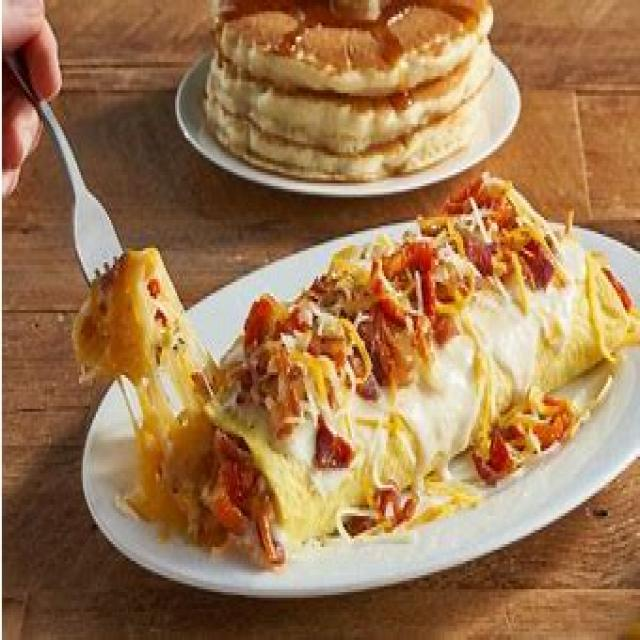Omelette: (71, 158, 639, 586)
Pancakes: (198, 0, 504, 183)
